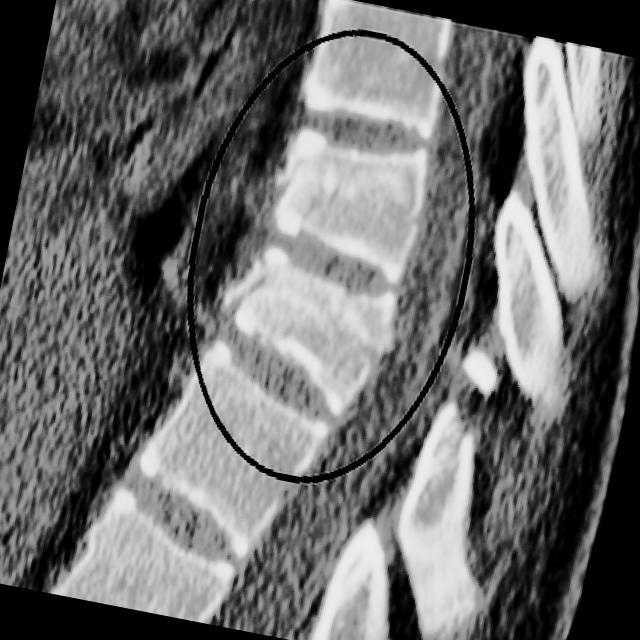Compression-Crush Fracutre: (260, 87, 439, 284), (228, 232, 409, 423)
